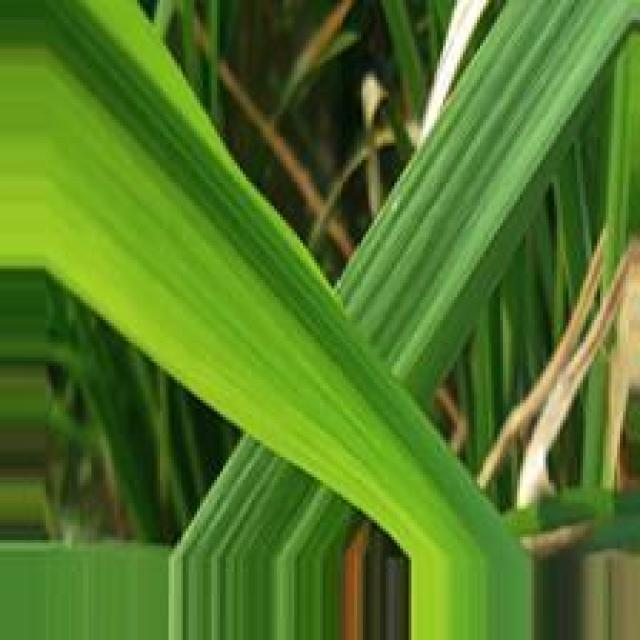HealthyLeaf: (67, 9, 470, 492), (338, 1, 633, 407), (181, 441, 360, 555)
